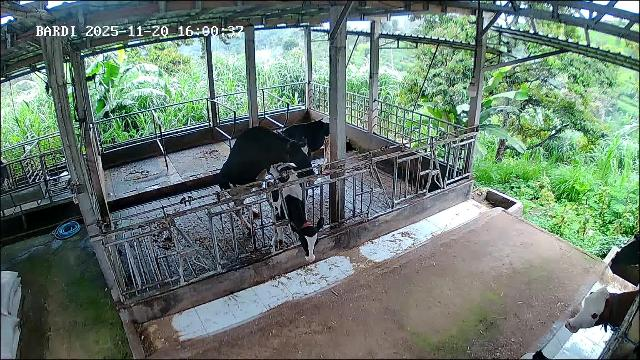mounting: (219, 125, 314, 237)
